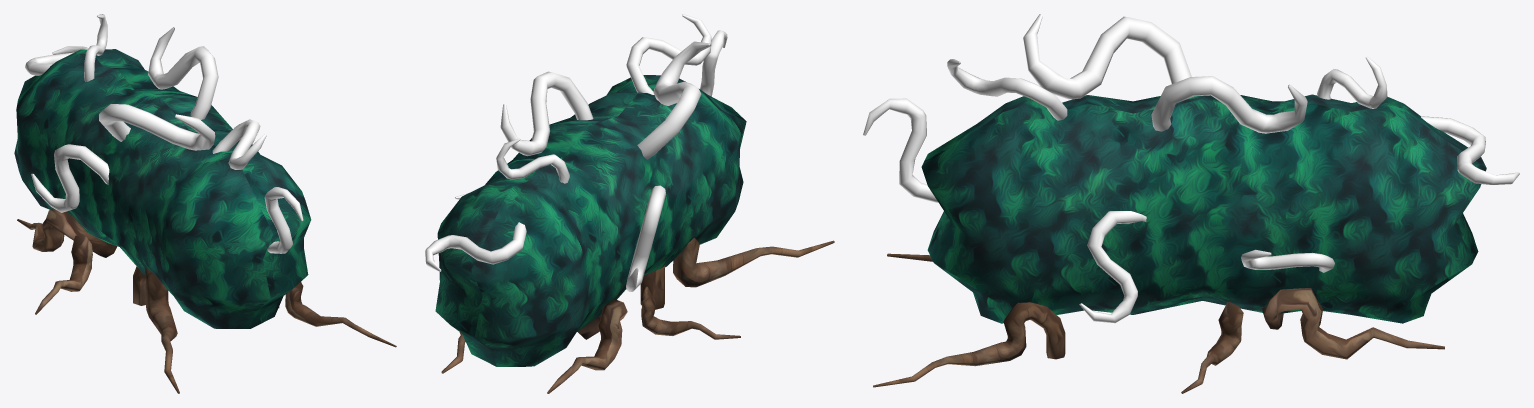
The model's file is Bush_Mutant.fbx.
3 renders of one model, left to right at view 1: azimuth 30°, elevation 25°; view 2: azimuth 150°, elevation 25°; view 3: azimuth 270°, elevation 25°, orthographic. The views are drawn at different scales.
Parts seen in each view (by area): view 1: Bush_Mutant; view 2: Bush_Mutant; view 3: Bush_Mutant.
Boxes of the visible parts, left/top/right/bottom form: Bush_Mutant: left=14, top=14, right=396, bottom=393; Bush_Mutant: left=425, top=14, right=834, bottom=393; Bush_Mutant: left=863, top=14, right=1519, bottom=393.
Bounding box in the file's own units: 178 × 148 × 317.
